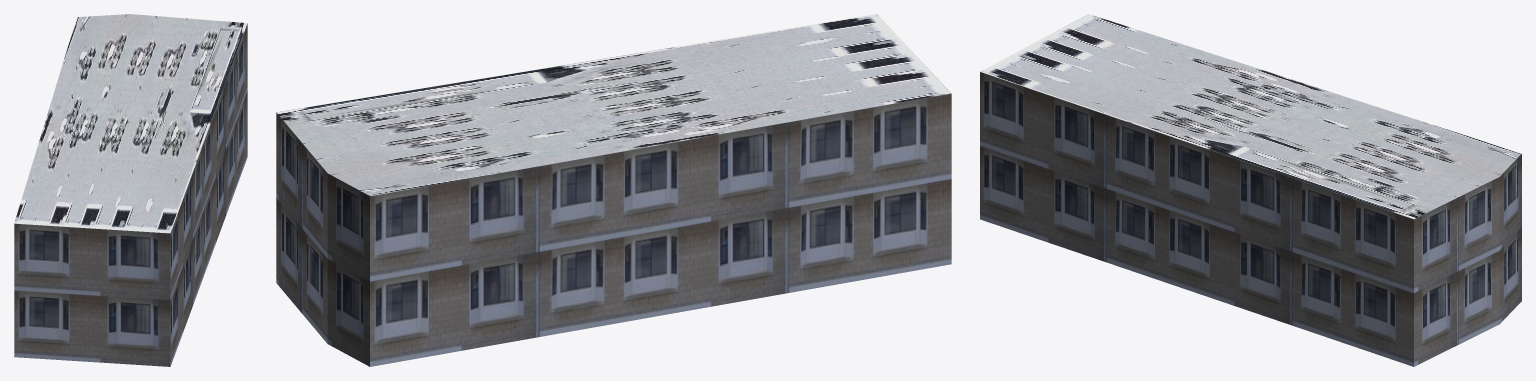
File: ResTex__5320.fbx
3 renders of one model, left to right at view 1: azimuth 30°, elevation 25°; view 2: azimuth 150°, elevation 25°; view 3: azimuth 270°, elevation 25°, orthographic. The views are drawn at different scales.
Parts seen in each view (by area): view 1: CityEngineMaterial_4_m, CityEngineMaterial_3_m; view 2: CityEngineMaterial_3_m, CityEngineMaterial_4_m; view 3: CityEngineMaterial_3_m, CityEngineMaterial_4_m.
Part boxes in pixels (box(x1,y1,x2,y2)): CityEngineMaterial_4_m: box(14, 14, 247, 233); CityEngineMaterial_3_m: box(14, 24, 247, 366); CityEngineMaterial_3_m: box(276, 93, 951, 366); CityEngineMaterial_4_m: box(277, 14, 951, 195); CityEngineMaterial_3_m: box(980, 72, 1521, 366); CityEngineMaterial_4_m: box(980, 14, 1521, 219).
Size of the model in its own units: 17.9 by 6 by 19.96.
Materials: 2 (2 with a texture image).
